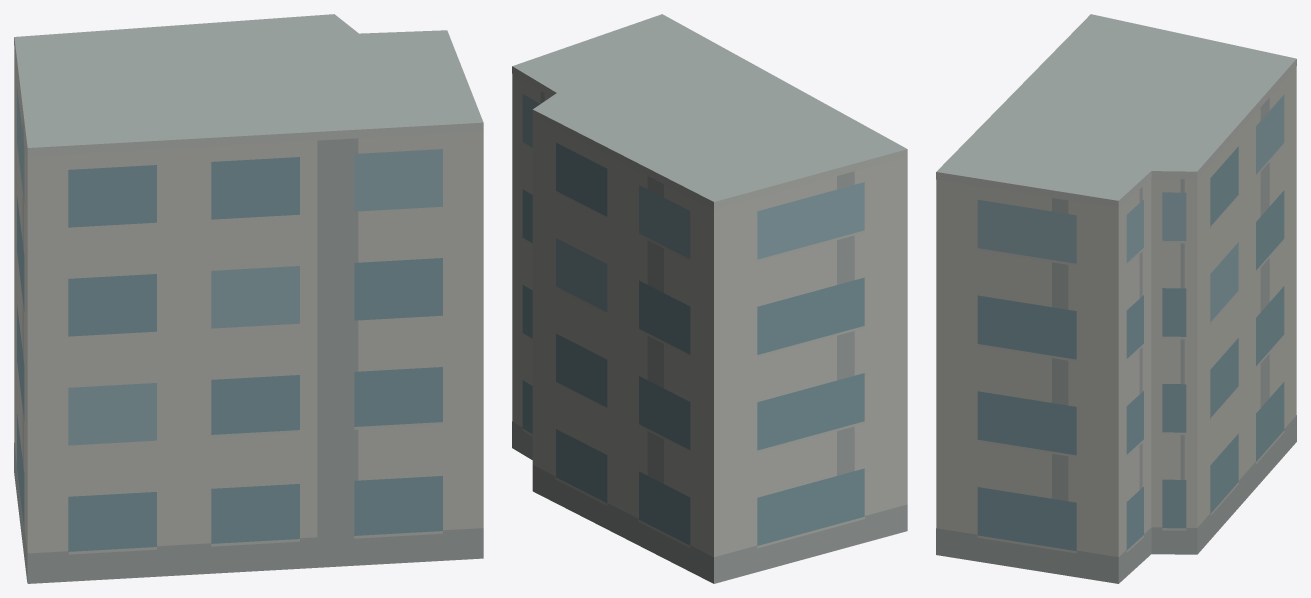
The model's file is residential-2df3f93b-f07c-437c-a49e-634956b6030b.glb.
3 renders of one model, left to right at view 1: azimuth 30°, elevation 25°; view 2: azimuth 150°, elevation 25°; view 3: azimuth 270°, elevation 25°, orthographic. The views are drawn at different scales.
Visible parts, largest first — view 1: residential-2df3f93b-f07c-437c-a49e-634956b6030b.tmp; view 2: residential-2df3f93b-f07c-437c-a49e-634956b6030b.tmp; view 3: residential-2df3f93b-f07c-437c-a49e-634956b6030b.tmp.
Part boxes in pixels (bbox=[...]): residential-2df3f93b-f07c-437c-a49e-634956b6030b.tmp: bbox=[14, 14, 483, 583]; residential-2df3f93b-f07c-437c-a49e-634956b6030b.tmp: bbox=[512, 14, 907, 583]; residential-2df3f93b-f07c-437c-a49e-634956b6030b.tmp: bbox=[936, 14, 1296, 583].
Size of the model in its own units: 12.77 by 12.2 by 10.42.
